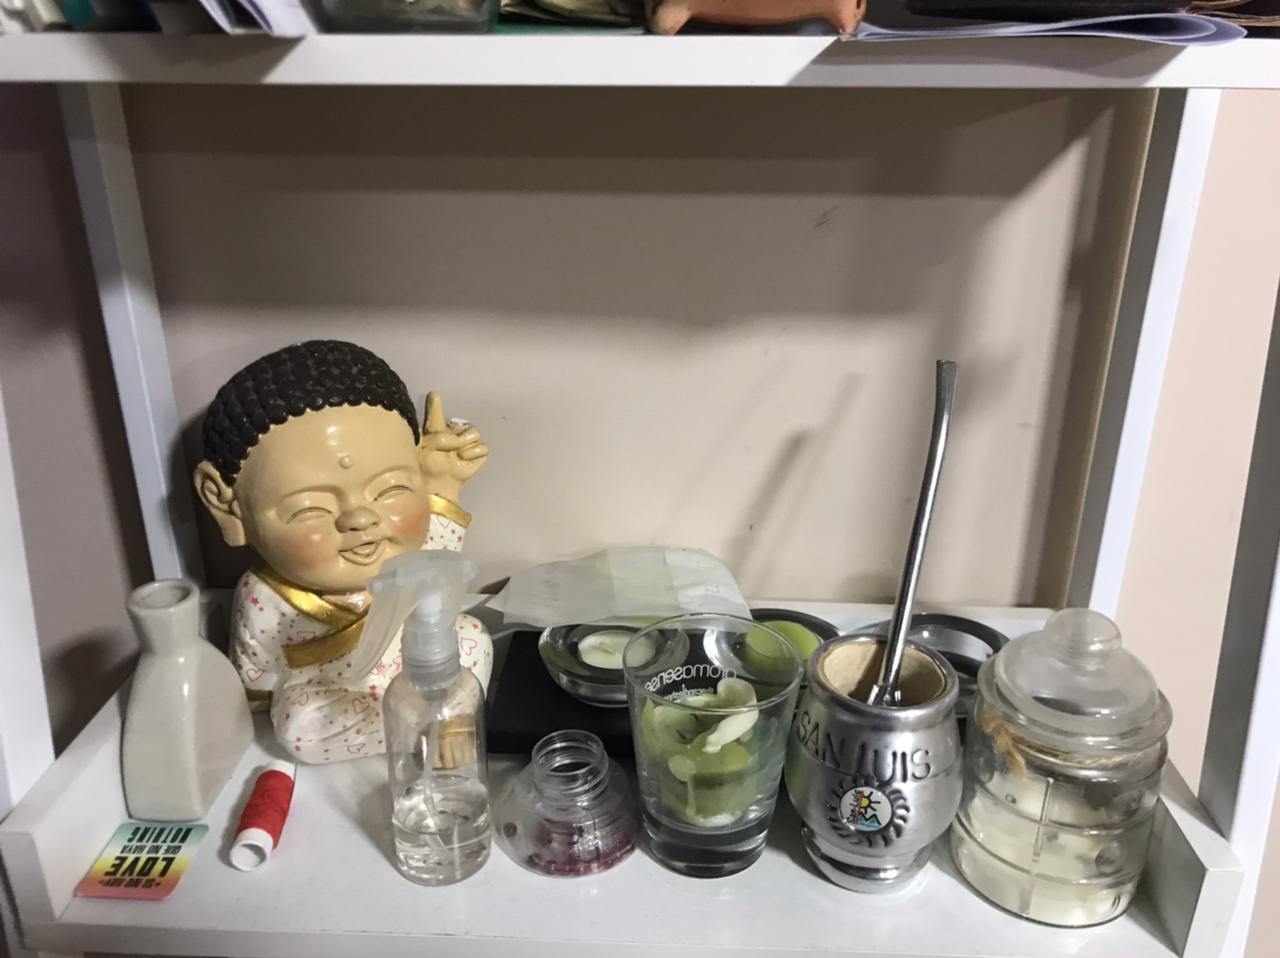mate: (773, 350, 973, 901)
